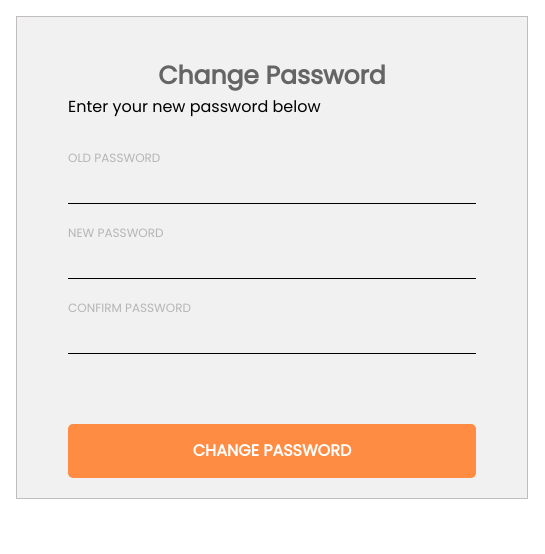
Test case: should test  change password component › should test same passwords new and old
Step 1. Type "Qwert@12345" into the password field with test id "oldpassword" → (272, 181), box 68,158 -> 476,204
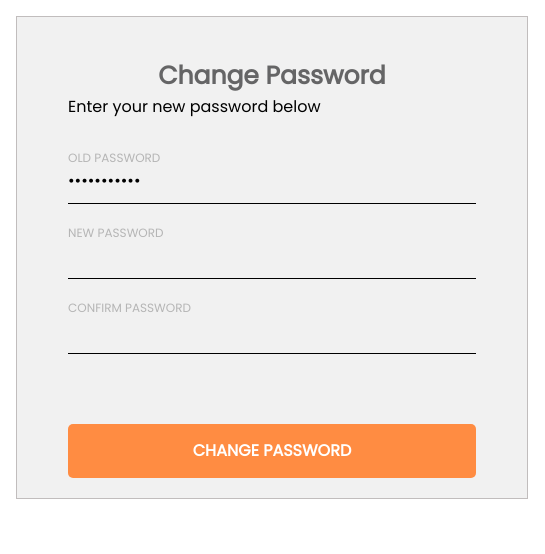
Step 2. Type "Qwert@12345" into the password field with test id "newpassword" → (272, 256), box 68,234 -> 476,278
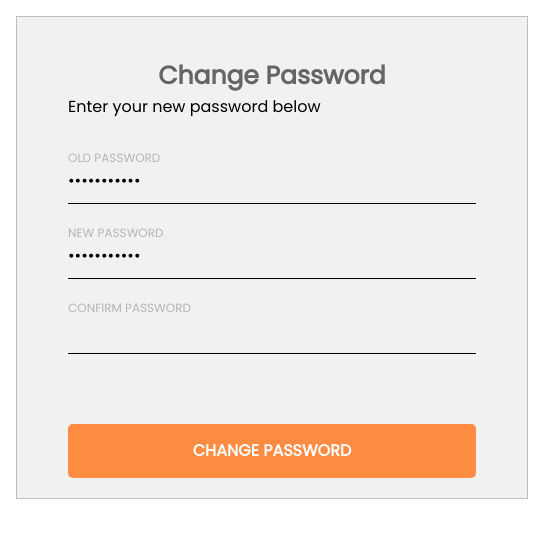
Step 3. Type "Qwert@12345" into the password field with test id "confirmpassword" → (272, 331), box 68,308 -> 476,354
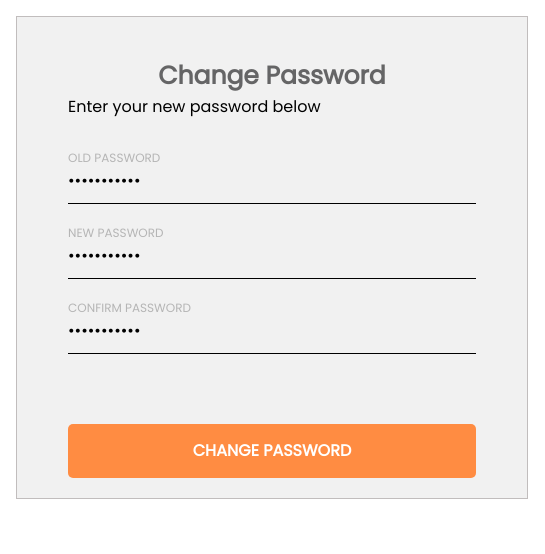
Step 4. Click the button "CHANGE PASSWORD" → (272, 450), box 68,424 -> 476,478
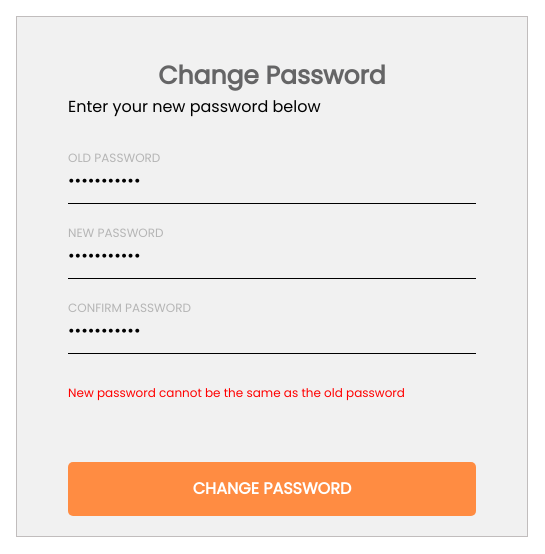
Check: the text with test id "div3" reads "New password cannot be the same as the old password", box 68,384 -> 405,400
